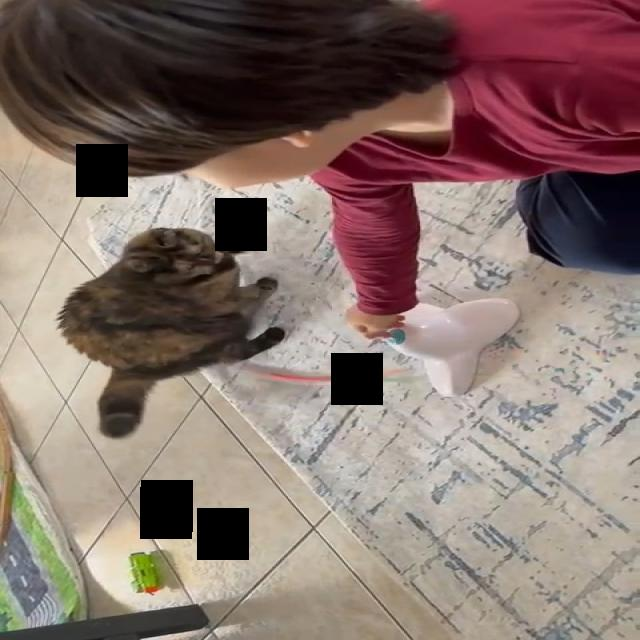authorized: (54, 225, 286, 438)
